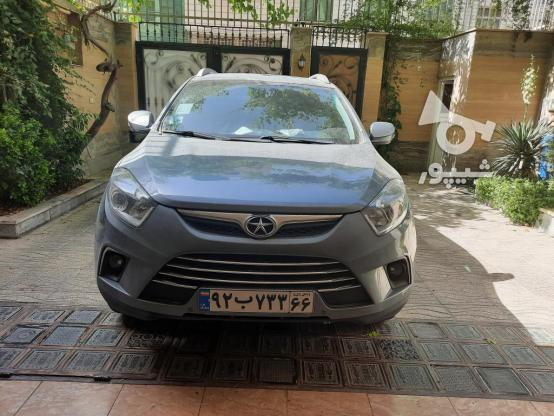car: (197, 289, 315, 318)
